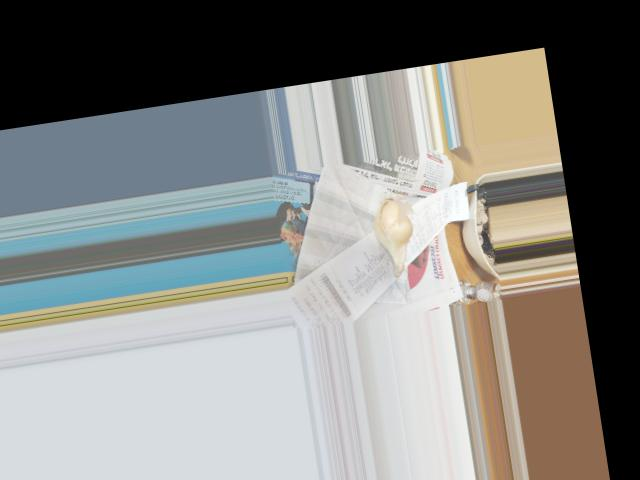onion: (371, 194, 418, 265)
